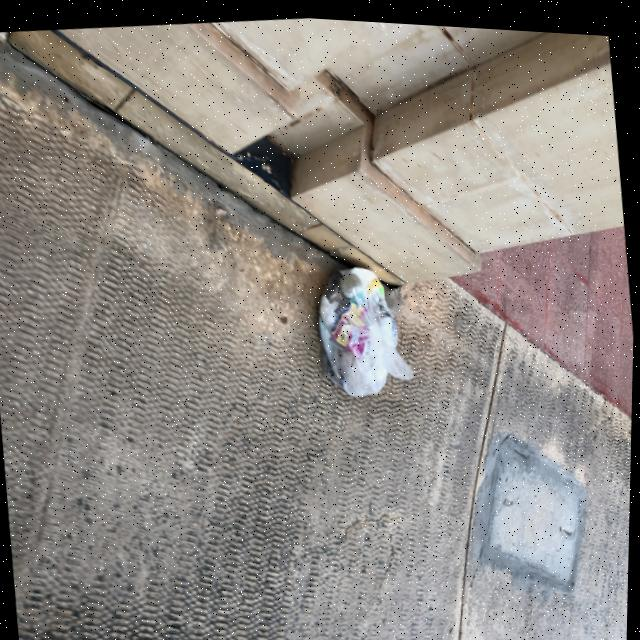Organic Waste -White Bag-: (309, 253, 415, 397)
